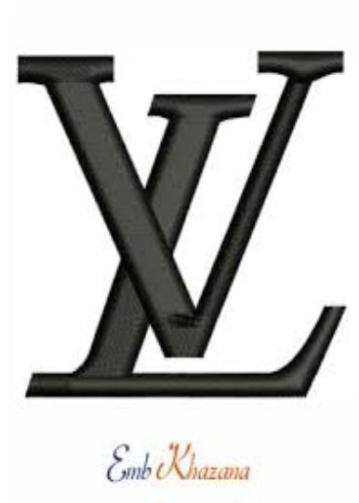LOUIS-VUITTON: (13, 29, 354, 410)
